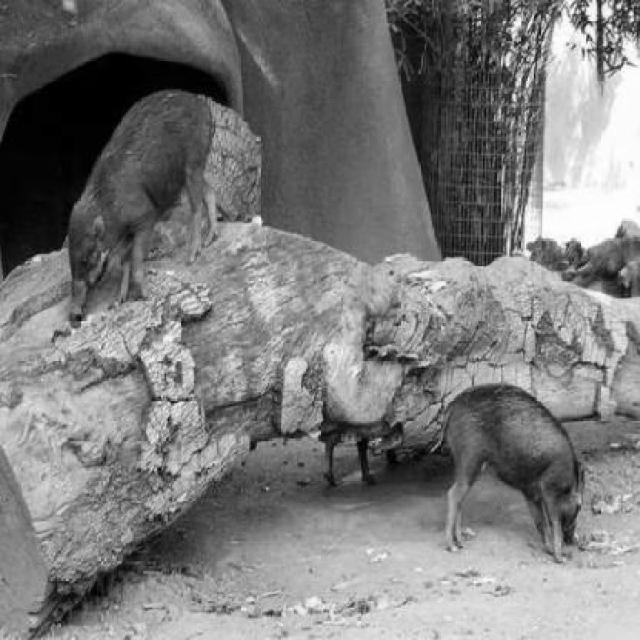Boar: (68, 83, 242, 328), (443, 377, 620, 575)
